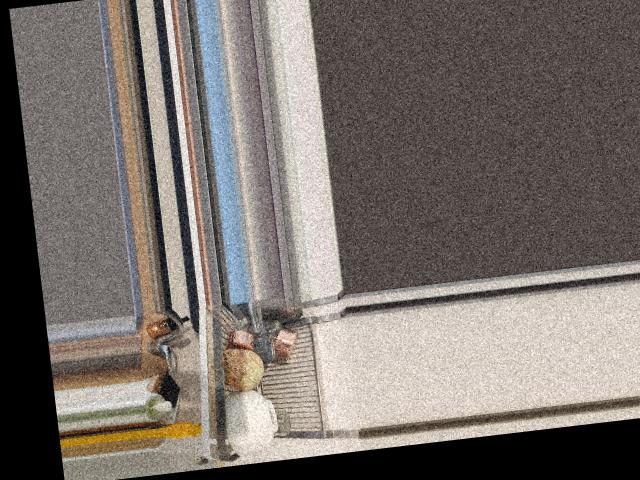onion: (217, 347, 269, 392)
